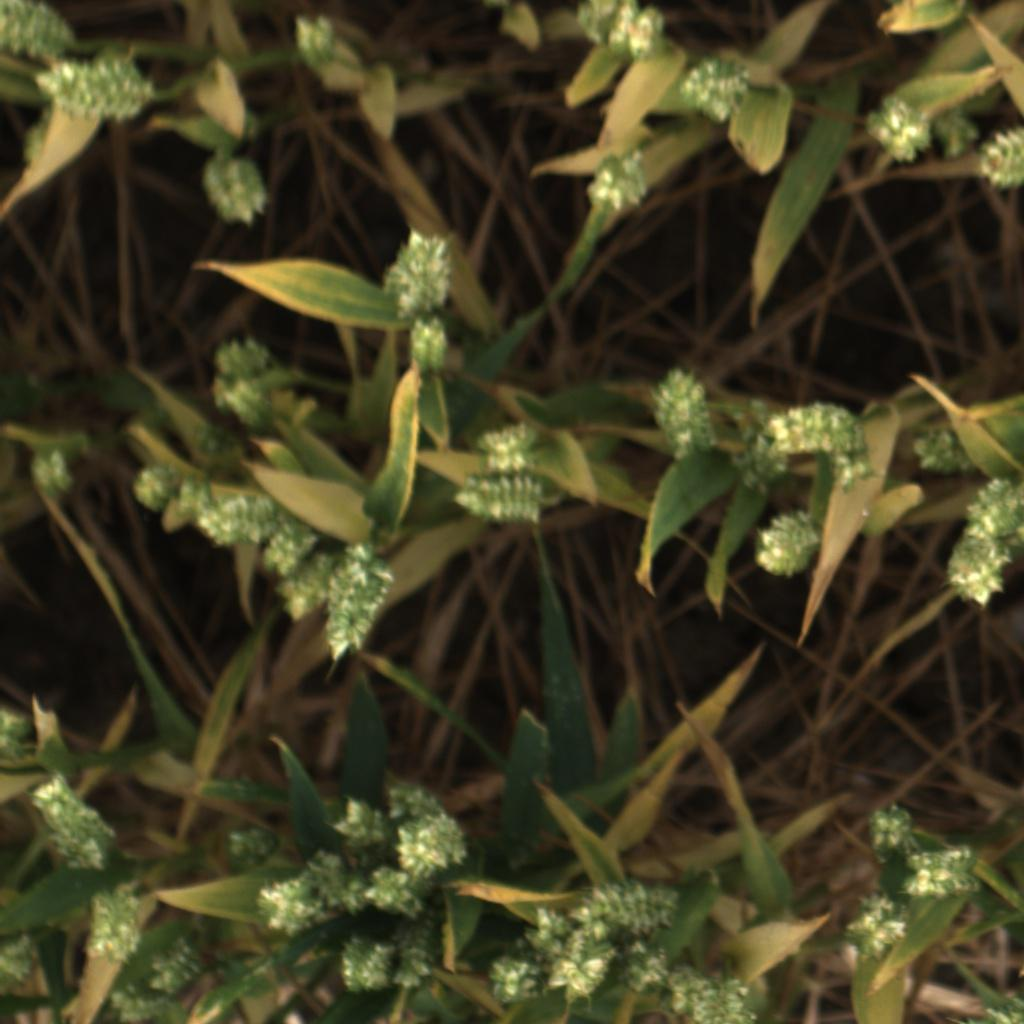0-0: (768, 393, 873, 493), (718, 395, 808, 508), (38, 50, 157, 128), (29, 769, 116, 875), (392, 772, 474, 876), (329, 535, 393, 665), (379, 230, 460, 314), (647, 365, 715, 465), (544, 929, 621, 1015), (571, 875, 676, 934), (674, 53, 755, 127), (449, 474, 553, 529), (198, 153, 275, 227), (750, 510, 827, 584), (575, 0, 673, 58), (863, 88, 934, 166), (941, 536, 1011, 613), (841, 888, 915, 960), (79, 888, 147, 965), (900, 842, 989, 900), (197, 494, 278, 555), (303, 848, 373, 917), (955, 468, 1024, 538), (580, 150, 651, 218), (4, 0, 82, 59), (252, 874, 323, 935), (483, 947, 550, 1011), (163, 466, 226, 534), (361, 863, 431, 923), (653, 952, 717, 1017), (472, 418, 543, 476), (387, 927, 449, 993), (857, 796, 921, 856), (332, 936, 391, 998), (286, 11, 347, 70), (616, 938, 673, 1000), (399, 312, 454, 376), (3, 921, 55, 988), (279, 560, 334, 623), (210, 374, 274, 428), (147, 934, 204, 994), (123, 456, 182, 513), (203, 333, 278, 376), (261, 523, 317, 580), (911, 423, 966, 480), (332, 794, 391, 847), (27, 442, 80, 501), (515, 901, 572, 954), (980, 128, 1024, 194), (106, 976, 164, 1024), (691, 980, 754, 1024), (218, 821, 279, 865), (0, 700, 41, 758), (938, 102, 975, 164)
